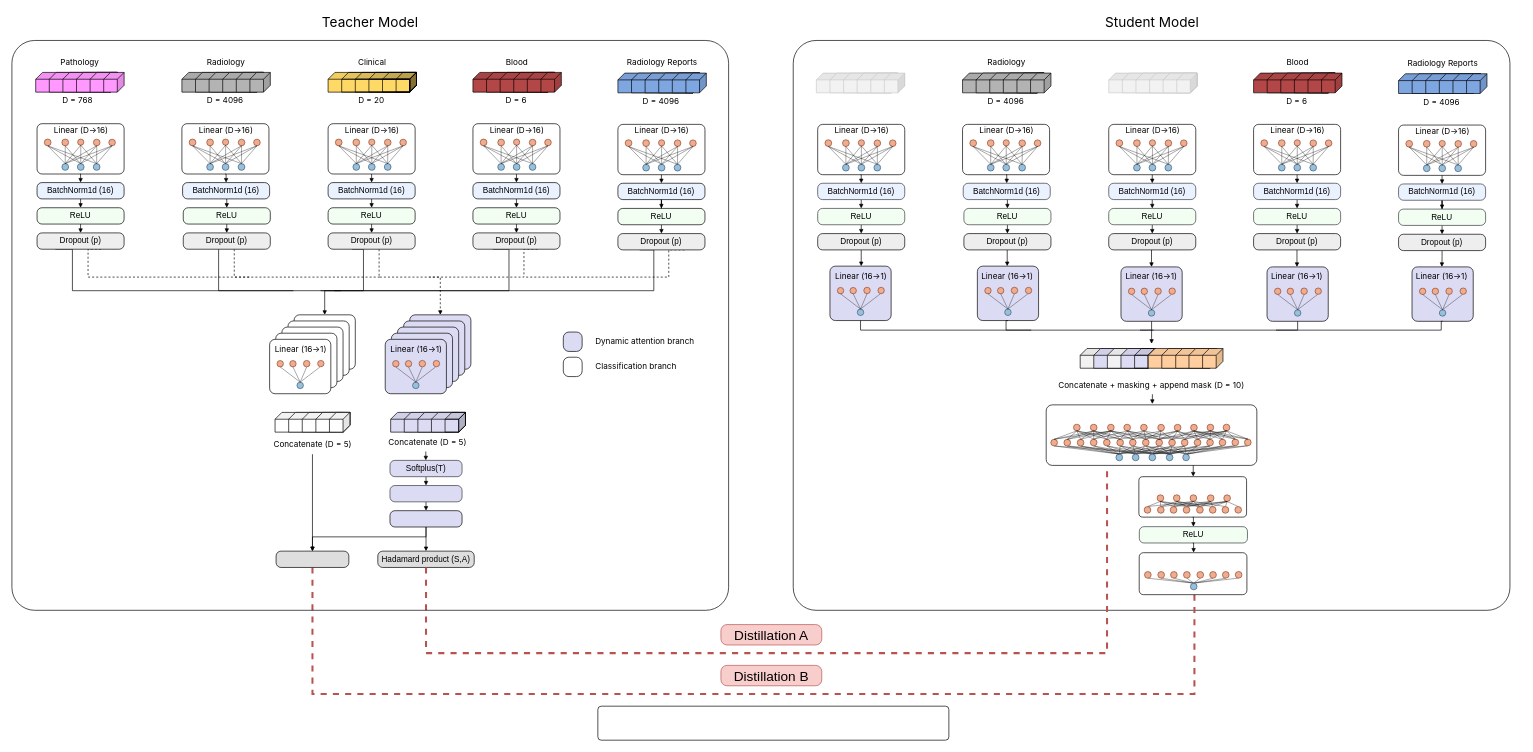
Image size: 1533x752. Some labels were removed from this diagram. Here are the shapes that lost their labels. From the top down, the box of each, then its label:
(1046, 404, 1257, 465): Linear (10 →16 →5)
(389, 485, 462, 502): Masking
(1138, 476, 1247, 517): Linear (6 →8 →1)
(389, 510, 462, 527): Normalization
(275, 550, 349, 567): Dot product (S,A)
(1139, 552, 1247, 595): Linear ( 8 →1)
(597, 706, 949, 740): Loss total = BCE(y student ,y) + α · di still_a + β · distill_ b
